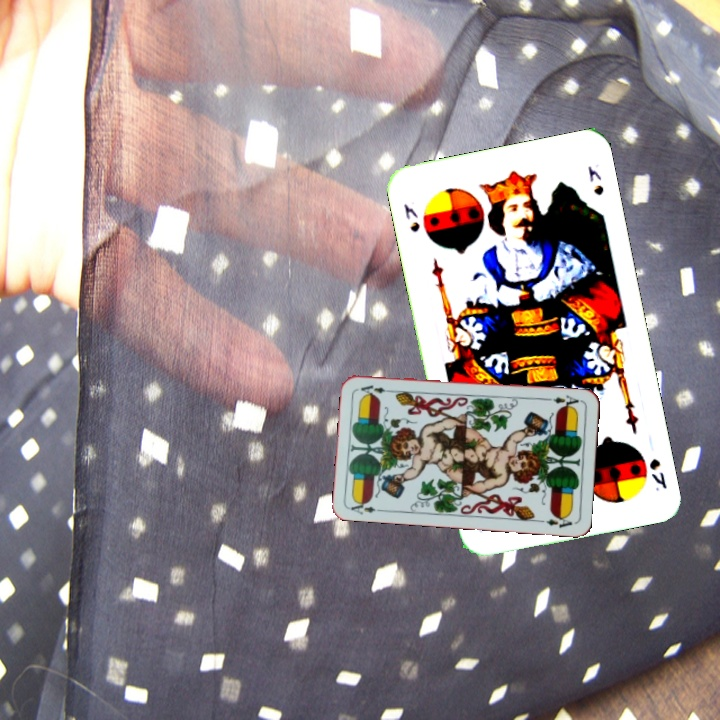EA: (543, 391, 584, 411), (347, 497, 378, 517)
SK: (645, 454, 670, 494), (399, 200, 423, 235)
